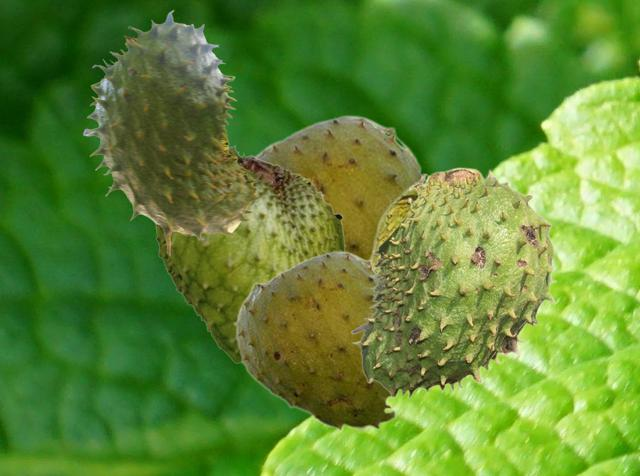guyabano: (350, 167, 556, 398), (83, 10, 258, 255), (154, 144, 344, 363), (232, 250, 399, 433), (240, 114, 424, 258), (367, 183, 416, 269)
